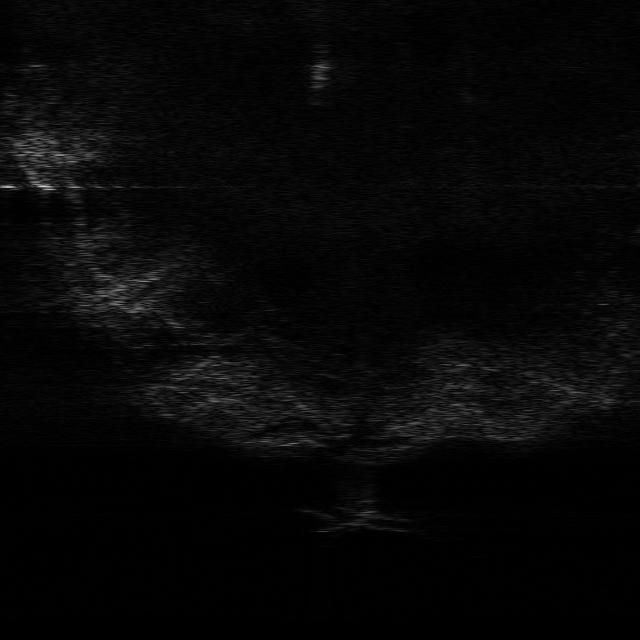plane: (301, 503, 411, 532)
